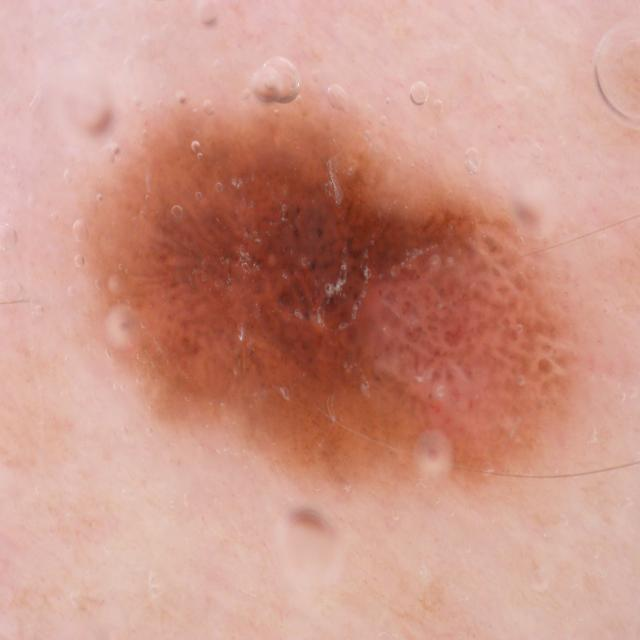Benign: (83, 91, 581, 492)
